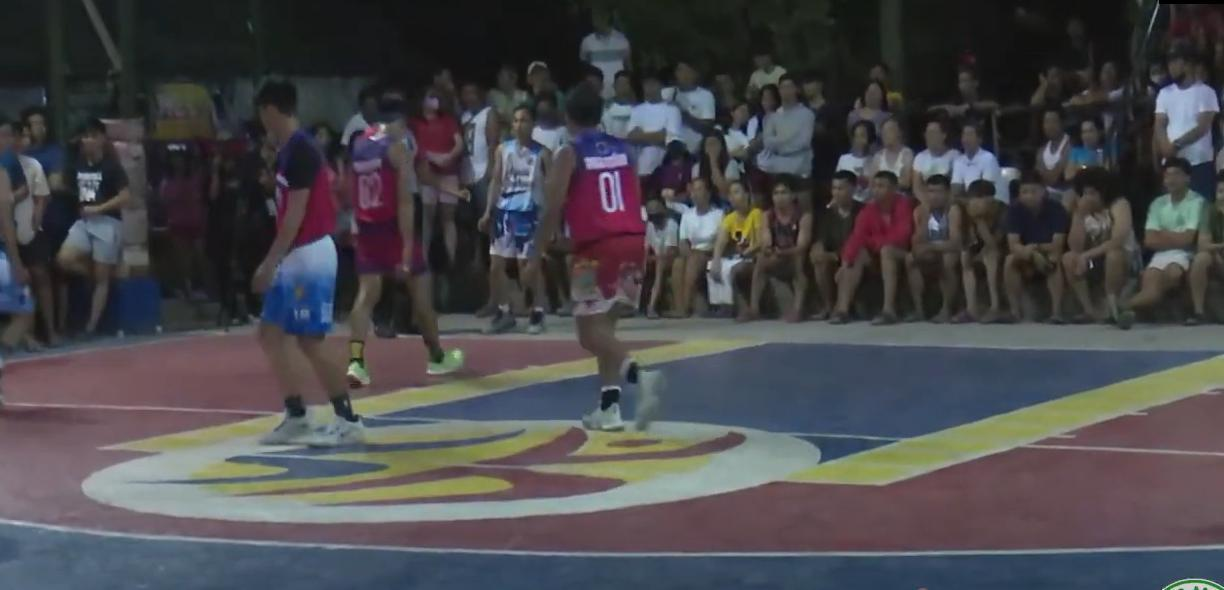human: (517, 83, 680, 450), (222, 68, 359, 458), (330, 73, 468, 400), (468, 93, 545, 350)
